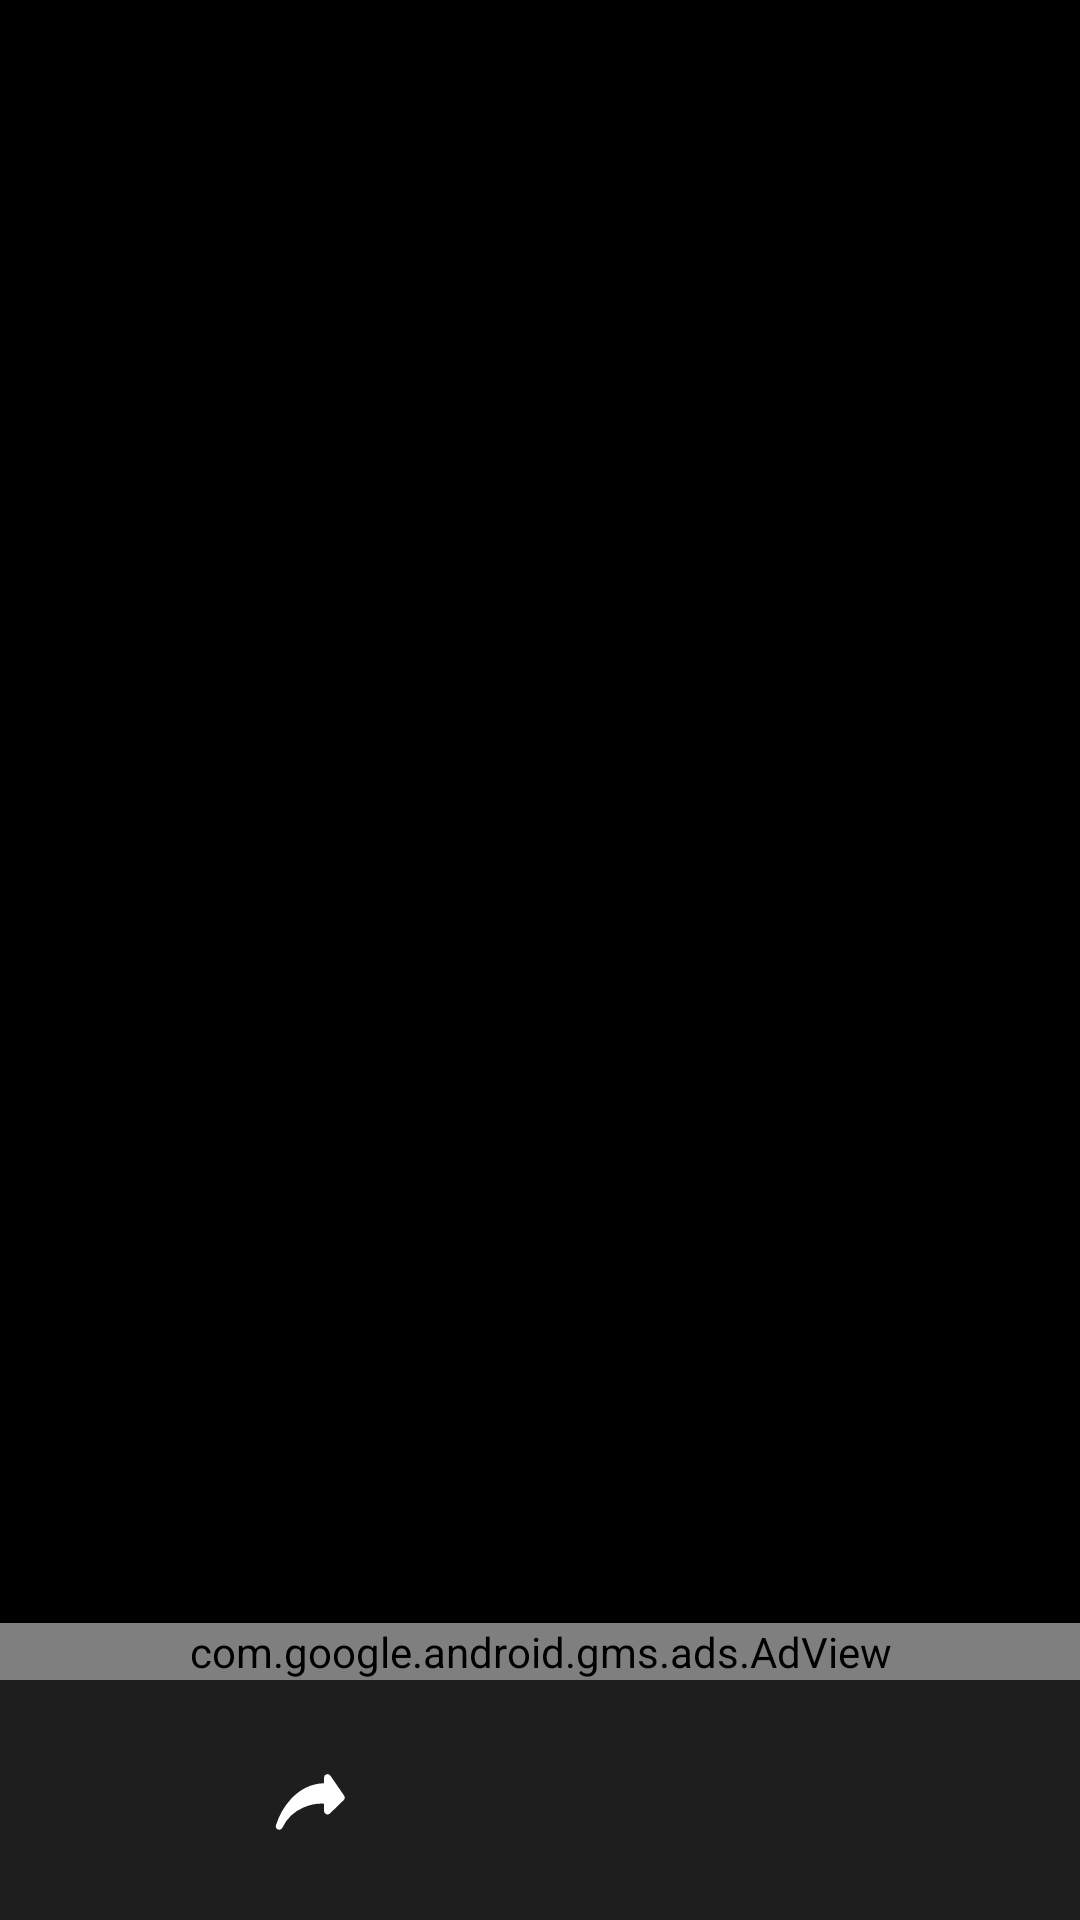

Named icons in this screenshot (1080*1920) and their centers, (x=x, y=y):
Compartir imagen con otras aplicaciones: (x=310, y=1802)
